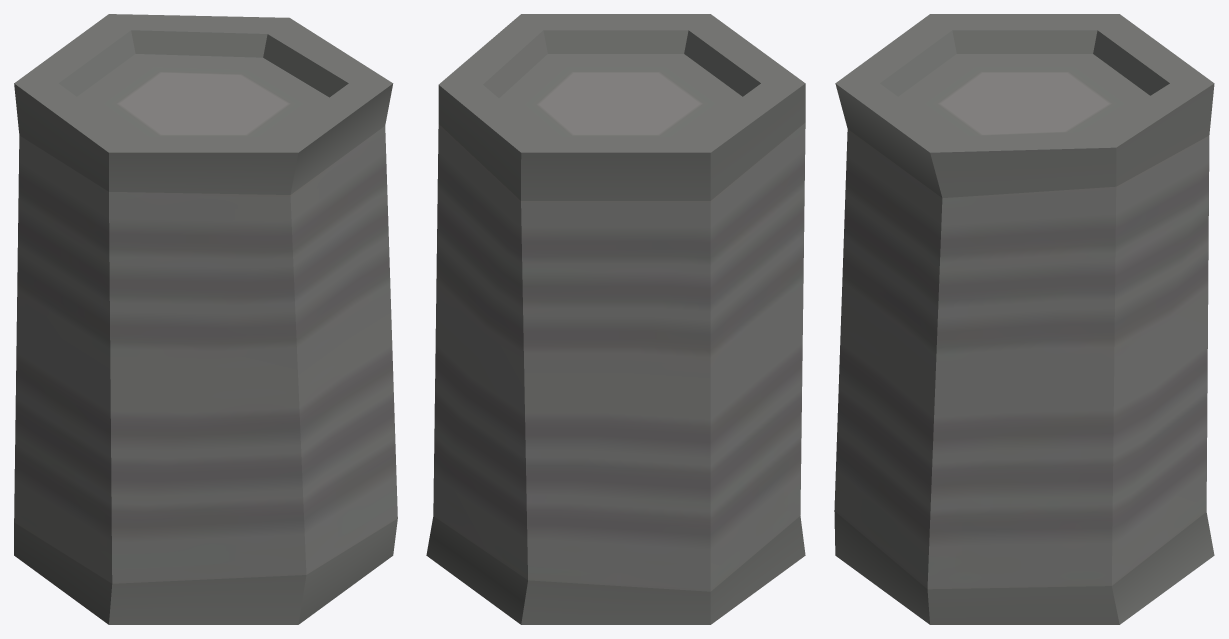
File: apoc_SM_Item_Can_01.gltf
3 views of the same model, side by side, from view 1: azimuth 30°, elevation 25°; view 2: azimuth 150°, elevation 25°; view 3: azimuth 270°, elevation 25° (orthographic).
Parts seen in each view (by area): view 1: SM_Item_Can_01; view 2: SM_Item_Can_01; view 3: SM_Item_Can_01.
Boxes of the visible parts, x1,y1,x2,y2 form: SM_Item_Can_01: [14, 14, 397, 624]; SM_Item_Can_01: [426, 14, 805, 624]; SM_Item_Can_01: [834, 14, 1214, 624].
Size of the model in its own units: 0.1301 by 0.204 by 0.1488.
Materials: 1 (1 with a texture image).
